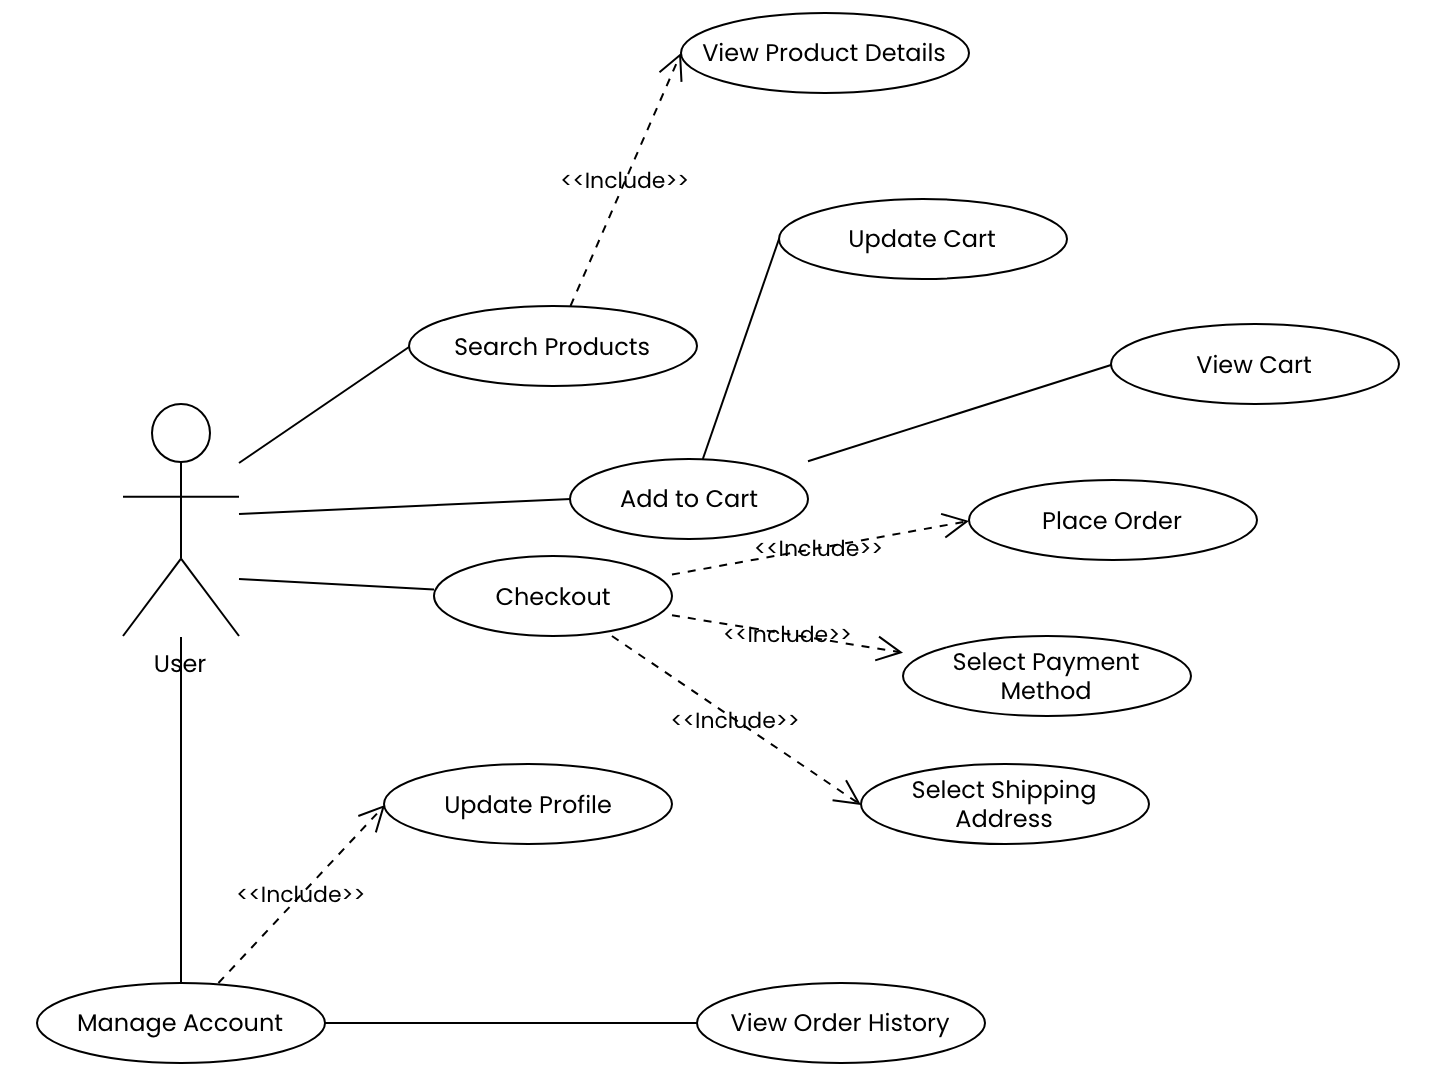actor: (118, 398, 248, 647)
association: (616, 634, 862, 808), (815, 363, 1114, 461), (569, 52, 685, 303), (219, 804, 386, 977), (671, 510, 966, 579), (240, 345, 404, 467), (698, 239, 779, 455), (669, 609, 903, 664), (327, 1011, 697, 1035), (239, 493, 568, 520), (172, 637, 191, 978), (236, 572, 432, 599)
text: (947, 647, 1147, 706), (904, 775, 1100, 834), (728, 1005, 954, 1043), (698, 35, 953, 66), (72, 1005, 292, 1041), (439, 785, 621, 827), (450, 332, 658, 364), (1036, 501, 1198, 542), (837, 222, 1005, 260), (613, 479, 763, 519), (1190, 343, 1321, 384), (227, 878, 373, 914), (488, 576, 613, 616), (666, 702, 809, 736), (560, 163, 697, 195), (722, 619, 856, 649), (750, 535, 887, 563), (149, 647, 215, 681)
use_case: (378, 760, 676, 850), (693, 979, 989, 1068), (33, 978, 329, 1067), (677, 7, 972, 96), (858, 760, 1152, 850), (774, 195, 1070, 283), (967, 476, 1263, 564), (1109, 319, 1403, 408), (899, 633, 1194, 720), (406, 303, 700, 389), (568, 456, 813, 543), (430, 554, 673, 641)
